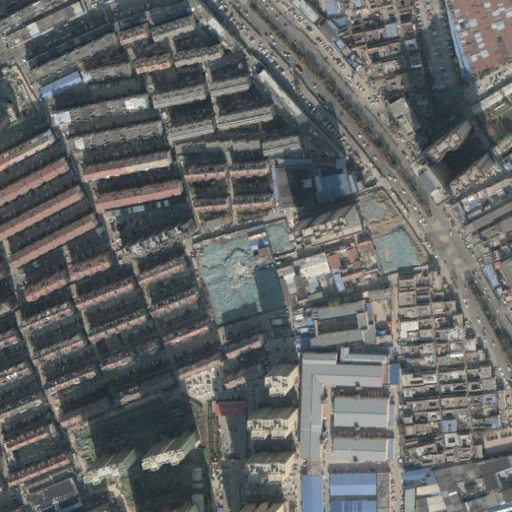cw: (192, 220, 295, 325), (358, 189, 434, 275)
